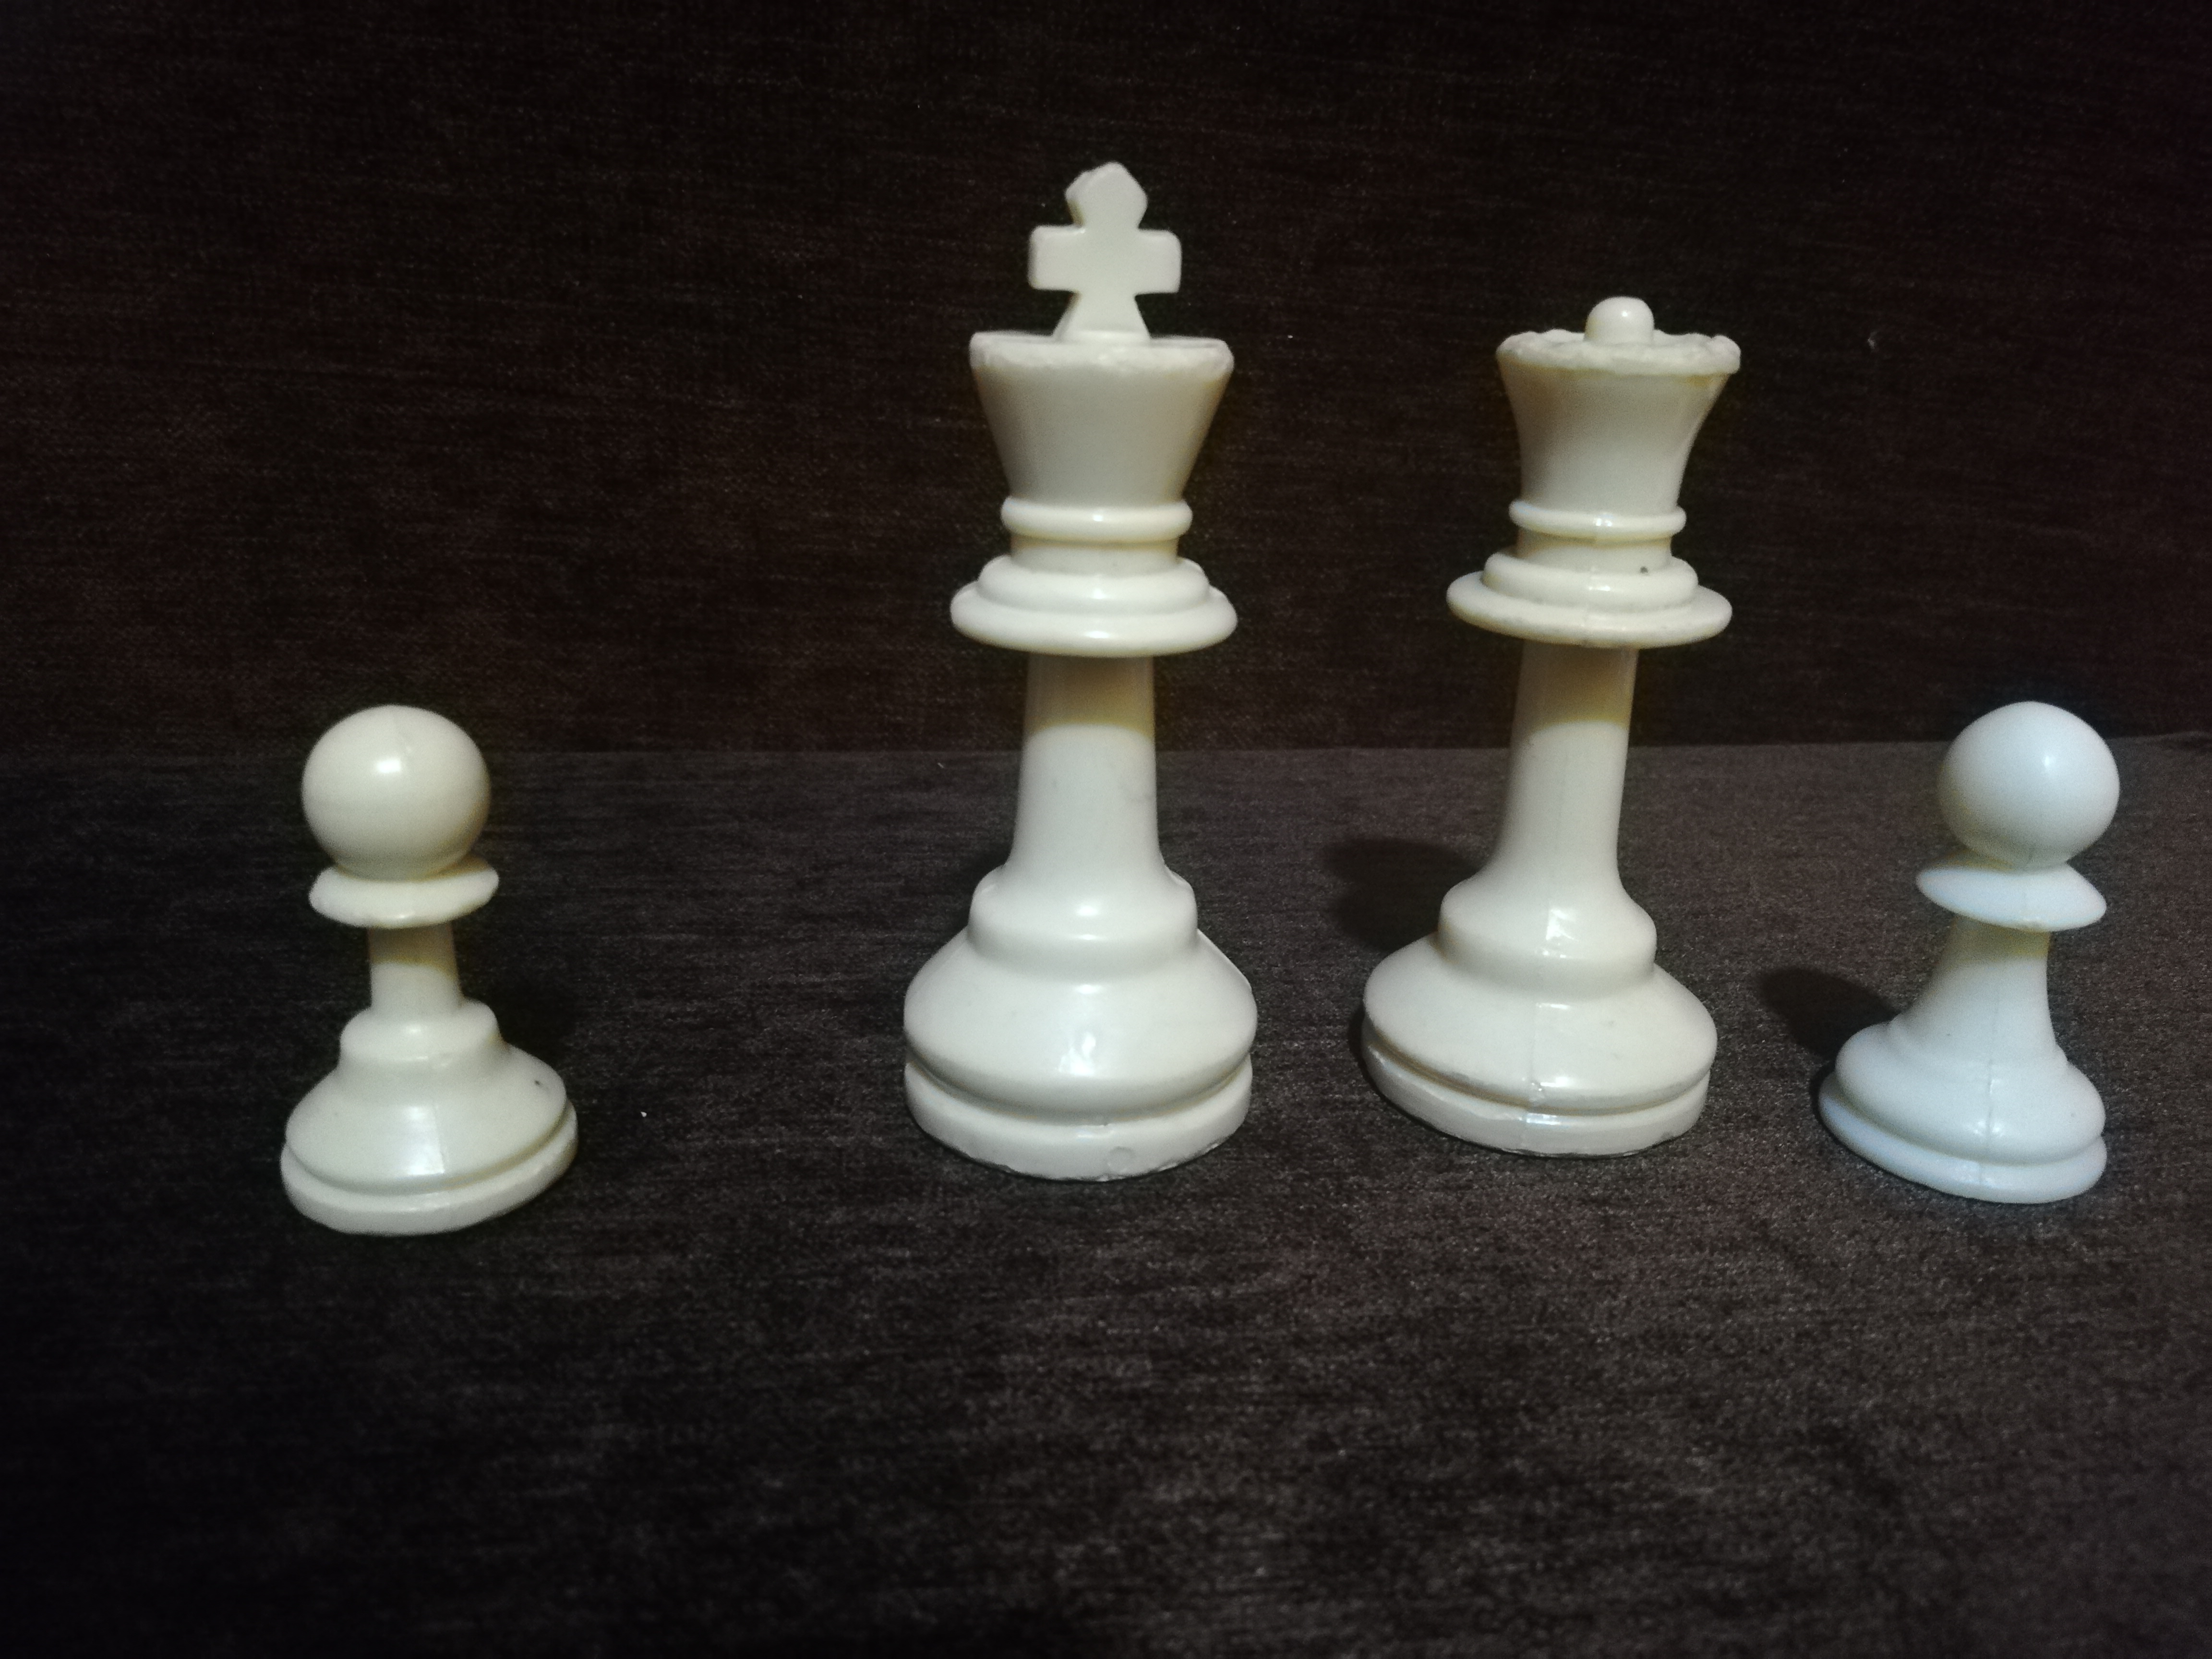King: (918, 161, 1274, 1187)
Pawn: (244, 699, 584, 1237), (1814, 697, 2120, 1215)
Queen: (1375, 292, 1745, 1167)
